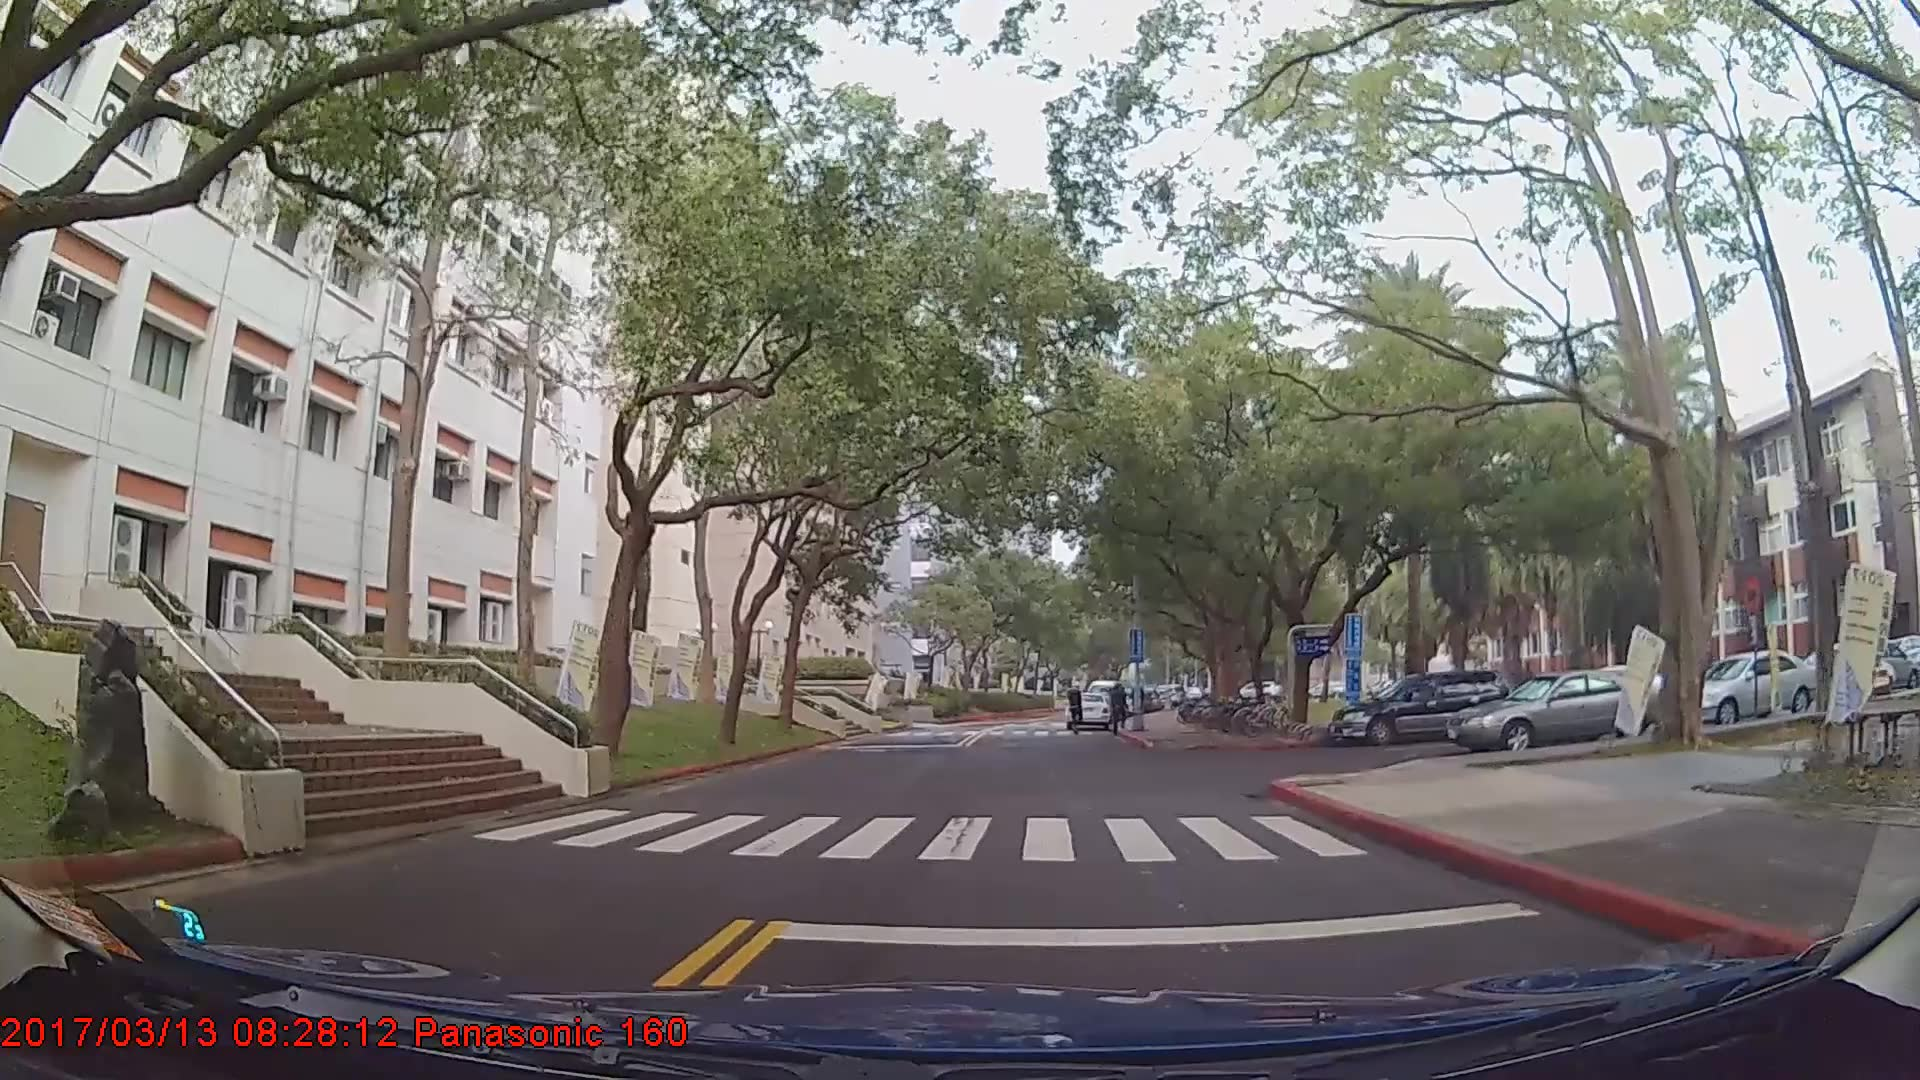pedestrian: (1110, 683, 1134, 734), (1068, 684, 1088, 736)
vehicle: (1446, 668, 1656, 754), (1327, 668, 1507, 747), (1680, 650, 1824, 726), (1064, 689, 1113, 729)
